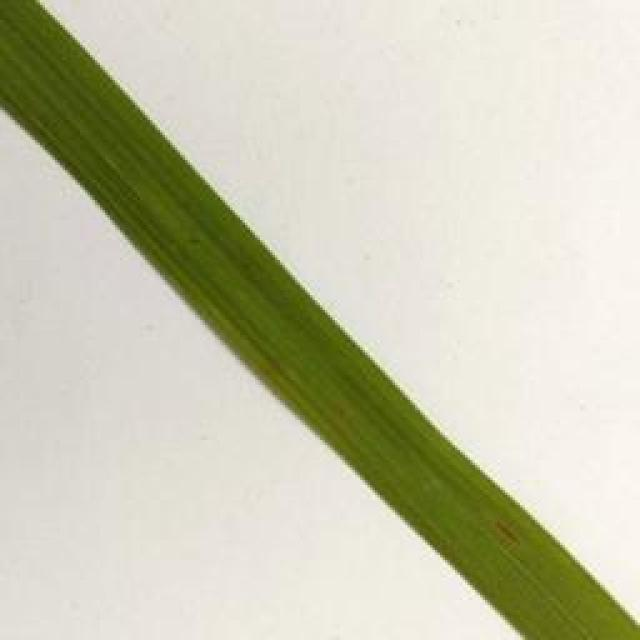Brown_Spot: (481, 515, 524, 550)
